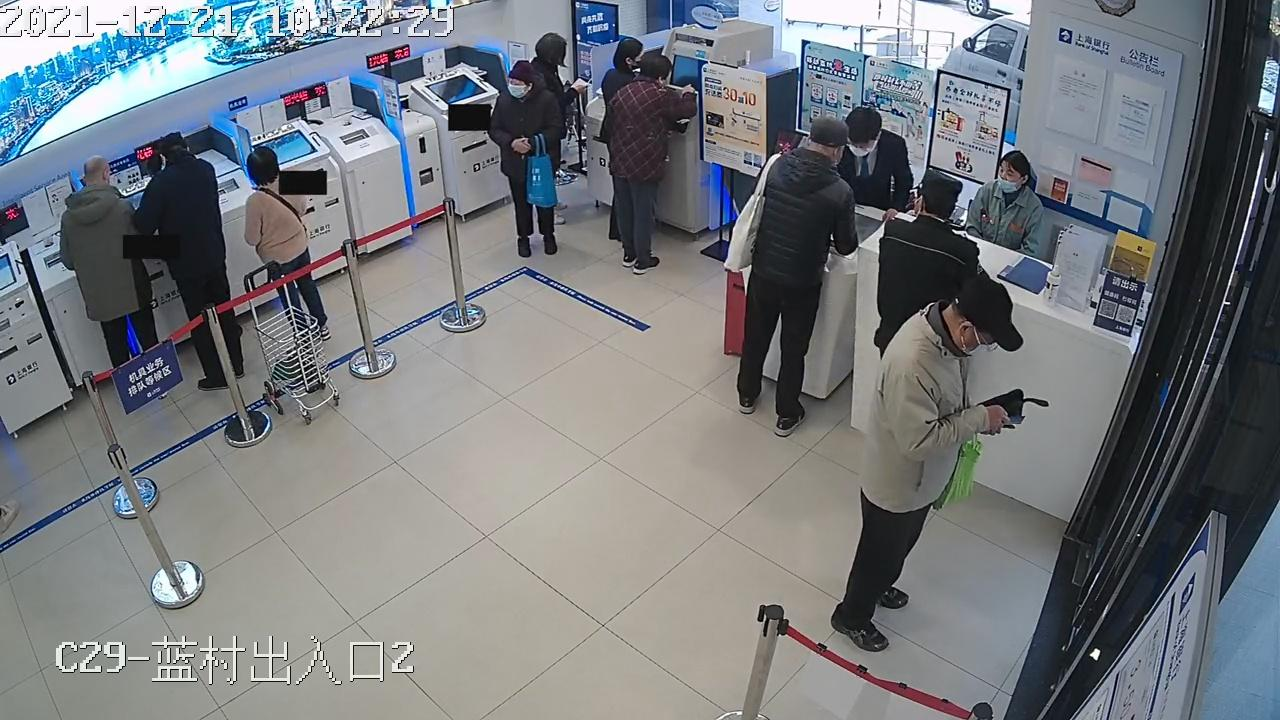person: (831, 277, 1026, 651), (738, 116, 859, 437), (137, 132, 247, 390), (58, 156, 160, 370), (603, 47, 695, 275), (875, 174, 982, 361), (243, 147, 331, 341), (488, 62, 563, 260), (525, 33, 591, 245), (839, 108, 916, 213), (967, 150, 1044, 254), (600, 37, 644, 115)
